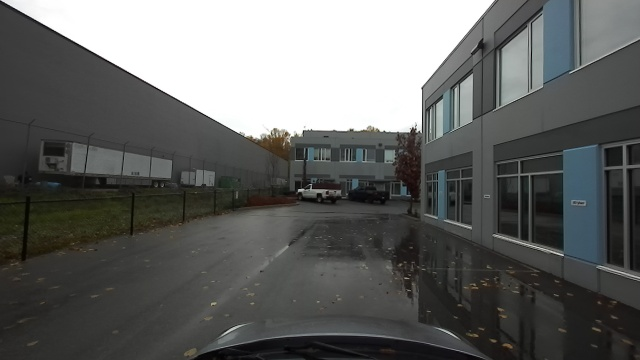car: (296, 184, 343, 205), (349, 186, 389, 205)
